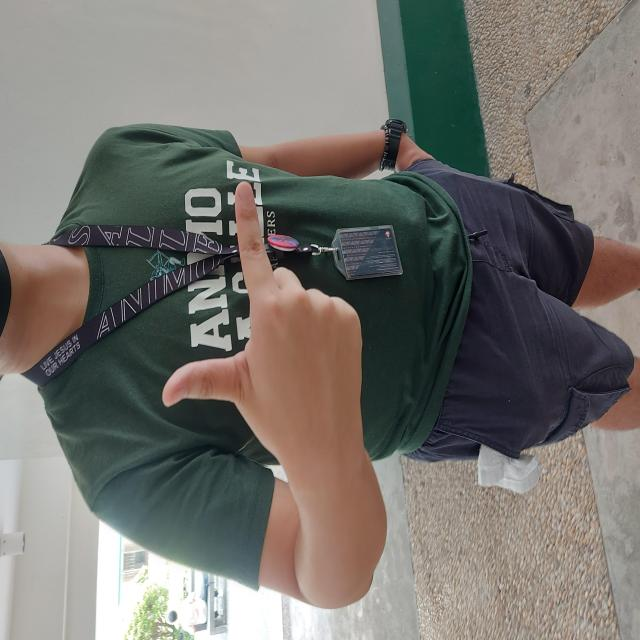G: (186, 161, 464, 364)
